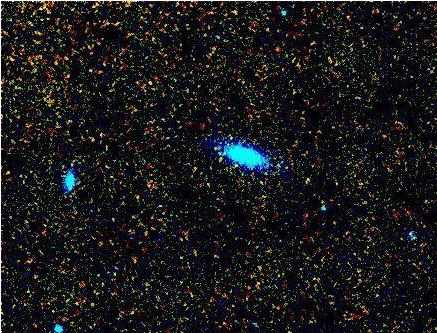star: (142, 168, 172, 198)
